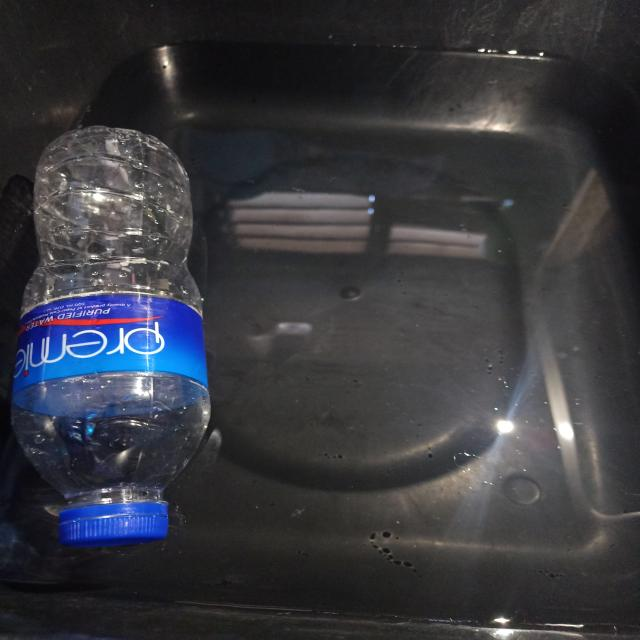Plastic Bottle: (12, 126, 210, 546)
